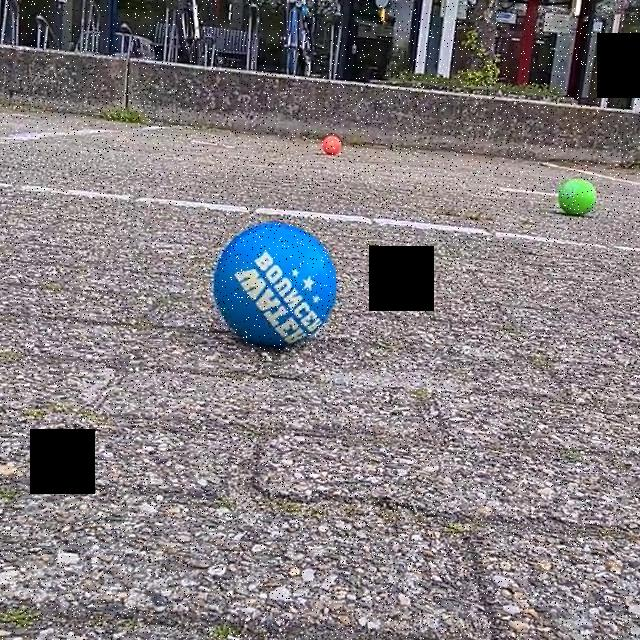ball: (555, 175, 600, 219), (319, 130, 344, 160)
